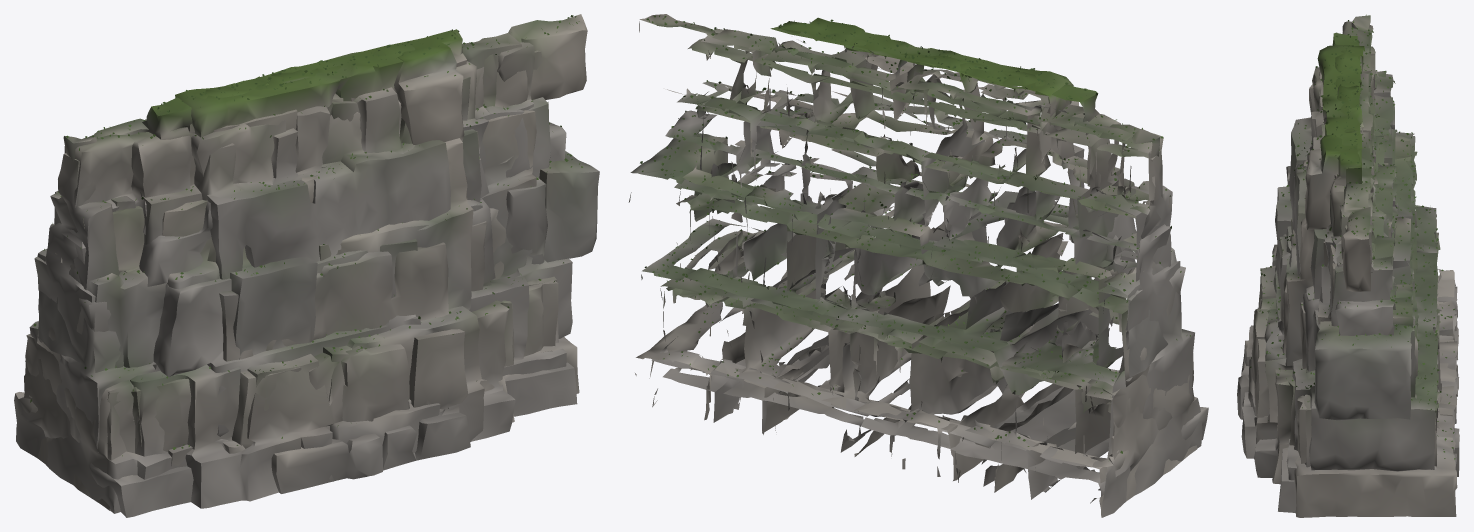
File: cliffs-ultra.glb
The picture shows the model from 3 angles, left to right: view 1: azimuth 30°, elevation 25°; view 2: azimuth 150°, elevation 25°; view 3: azimuth 270°, elevation 25°; orthographic projection. The views are drawn at different scales.
Parts seen in each view (by area): view 1: cliff2_near, cliff0_near, cliff1_near; view 2: cliff0_near, cliff2_near, cliff1_near; view 3: cliff1_near, cliff0_near, cliff2_near.
Part boxes in pixels (left/top/right/bottom): cliff2_near: left=21, top=29, right=577, bottom=517; cliff0_near: left=14, top=14, right=599, bottom=513; cliff1_near: left=29, top=36, right=579, bottom=510; cliff0_near: left=628, top=14, right=1202, bottom=517; cliff2_near: left=652, top=24, right=1208, bottom=508; cliff1_near: left=635, top=27, right=1197, bottom=517; cliff1_near: left=1264, top=20, right=1458, bottom=517; cliff0_near: left=1245, top=14, right=1457, bottom=480; cliff2_near: left=1237, top=45, right=1459, bottom=512.
Bounding box in the file's own units: 1.67 × 1.12 × 0.706.
